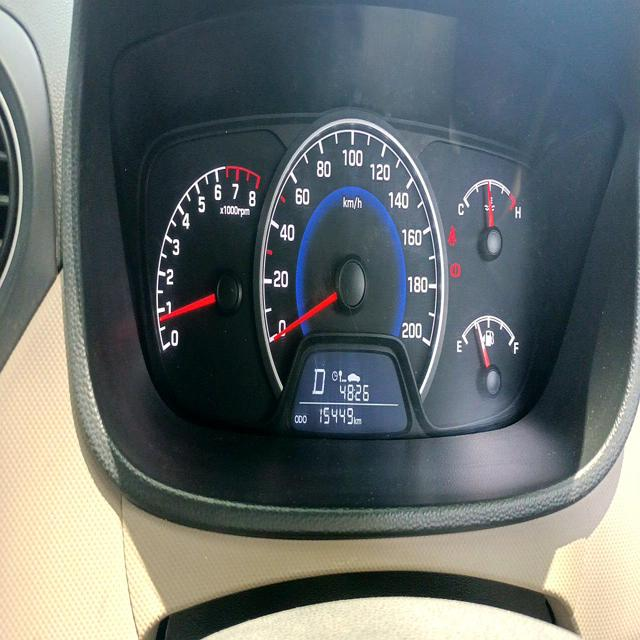odometer: (317, 405, 353, 425)
